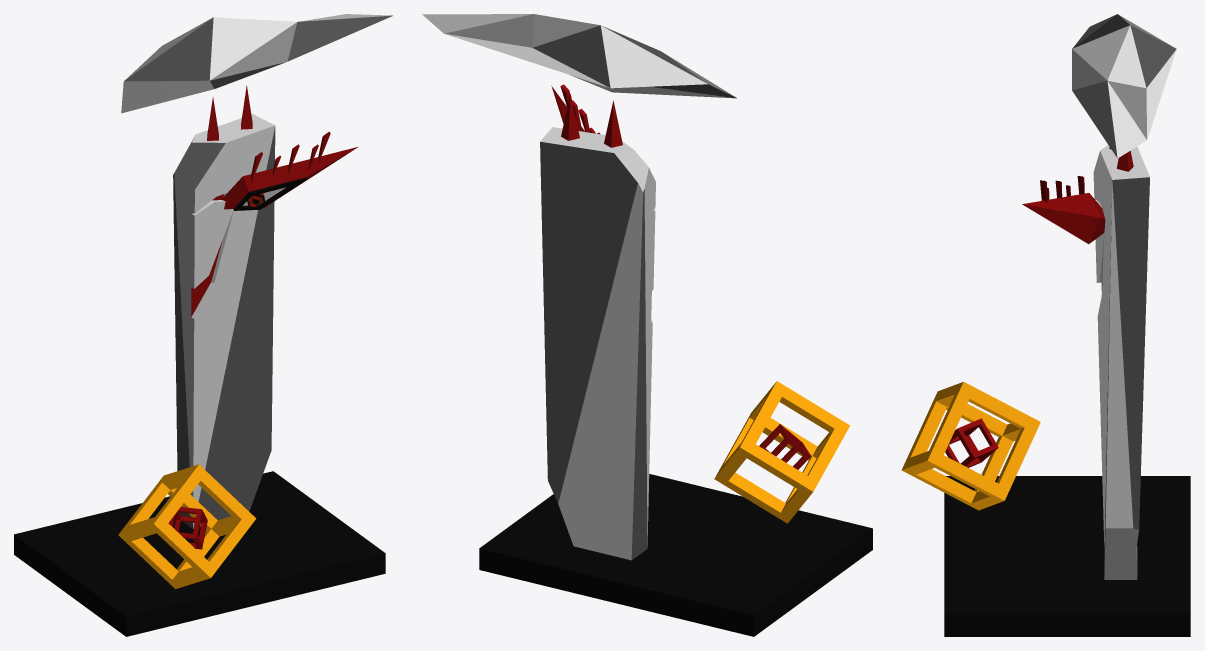
The picture shows the model from 3 angles, left to right: view 1: azimuth 30°, elevation 25°; view 2: azimuth 150°, elevation 25°; view 3: azimuth 270°, elevation 25°; orthographic projection. The views are drawn at different scales.
Visible parts, largest first — view 1: Group4, Group1, Group7, Group2, mao1, Group3; view 2: Group4, Group1, Group7, Group2, Group3; view 3: Group1, Group4, Group7, Group2, mao1, Group3.
Boxes of the visible parts, x1=… form: Group4: x1=173, y1=114, x2=275, y2=528; Group1: x1=14, y1=471, x2=385, y2=636; Group7: x1=121, y1=14, x2=392, y2=113; Group2: x1=118, y1=464, x2=256, y2=589; mao1: x1=222, y1=146, x2=358, y2=210; Group3: x1=168, y1=507, x2=207, y2=549; Group4: x1=540, y1=127, x2=655, y2=560; Group1: x1=479, y1=474, x2=872, y2=636; Group7: x1=422, y1=14, x2=736, y2=98; Group2: x1=714, y1=381, x2=850, y2=523; Group3: x1=759, y1=424, x2=811, y2=469; Group1: x1=944, y1=476, x2=1190, y2=636; Group4: x1=1093, y1=145, x2=1149, y2=579; Group7: x1=1072, y1=14, x2=1176, y2=158; Group2: x1=901, y1=381, x2=1040, y2=510; mao1: x1=1022, y1=193, x2=1105, y2=244; Group3: x1=945, y1=418, x2=998, y2=467.
Bounding box in the file's own units: 2.67 × 3.8 × 1.76.
